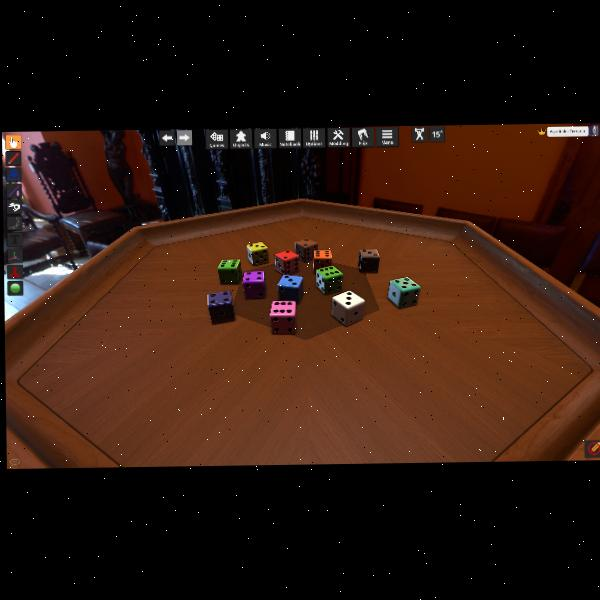d6: (331, 291, 364, 327), (387, 277, 418, 309), (269, 300, 297, 334), (206, 290, 233, 324), (277, 274, 304, 305), (314, 265, 340, 295), (217, 257, 243, 284), (243, 270, 266, 298), (274, 249, 298, 275), (357, 248, 379, 273), (246, 242, 268, 266), (294, 237, 315, 262), (315, 250, 333, 273)
